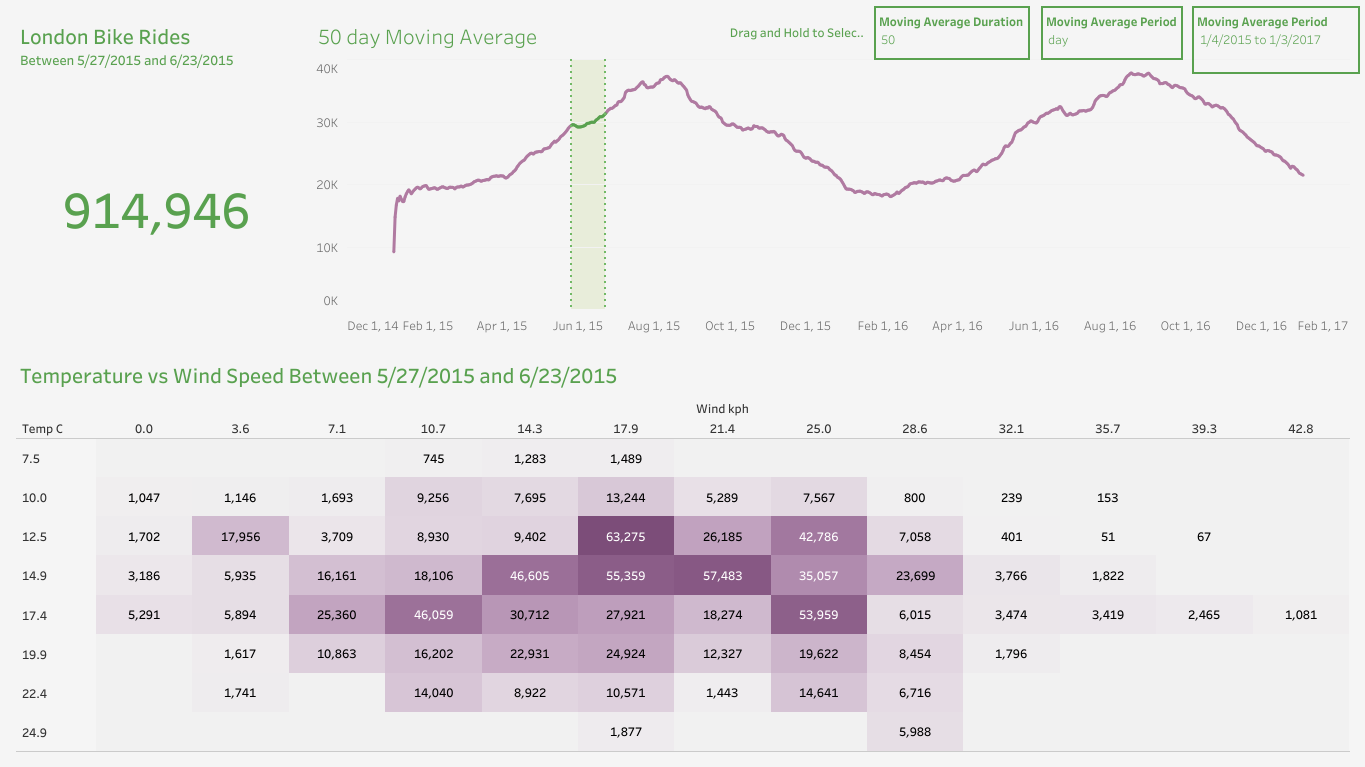

This screenshot's page, from the dashboard's own definition file:
{"tool":"tableau","page":{"name":"Dashboard 1","canvas":[1366,768],"ordinal":0},"visuals":[{"type":"parameter","param":"[Parameters].[Parameter 2]","box":[874,6,156,54]},{"type":"parameter","param":"[Parameters].[Parameter 1]","box":[1041,6,142,54]},{"type":"filter","title":"Moving Average Workbook","param":"[federated.1jwh5yy0cg0qb517zr0511tulmo8].[none:Calculation_3662833897566969864:q","box":[1192,6,168,68]},{"type":"worksheet","title":"Total Rides","mark":"Automatic","box":[8,8,298,339]},{"type":"worksheet","title":"Moving Average Workbook","mark":"Automatic","rows":["Calculation2"],"cols":["Calculation_3662833897566969864"],"box":[306,8,1052,339]},{"type":"text","box":[727,15,140,34]},{"type":"worksheet","title":"Heatmap","mark":"Square","rows":["temp real C (bin)"],"cols":["Wind Speed Kph (bin)"],"box":[8,347,1350,413]}]}

Visuals, with their boxes in screenshot pixels (x1, y1, x2, y2), scaled from the page's 1366x768 canvas onto the 1365x767 screenshot:
parameter: bbox=[873, 6, 1029, 60]
parameter: bbox=[1040, 6, 1182, 60]
"Moving Average Workbook" filter: bbox=[1191, 6, 1359, 74]
"Total Rides" worksheet: bbox=[8, 8, 306, 347]
"Moving Average Workbook" worksheet: bbox=[306, 8, 1357, 347]
text: bbox=[726, 15, 866, 49]
"Heatmap" worksheet (Square marks): bbox=[8, 347, 1357, 759]
